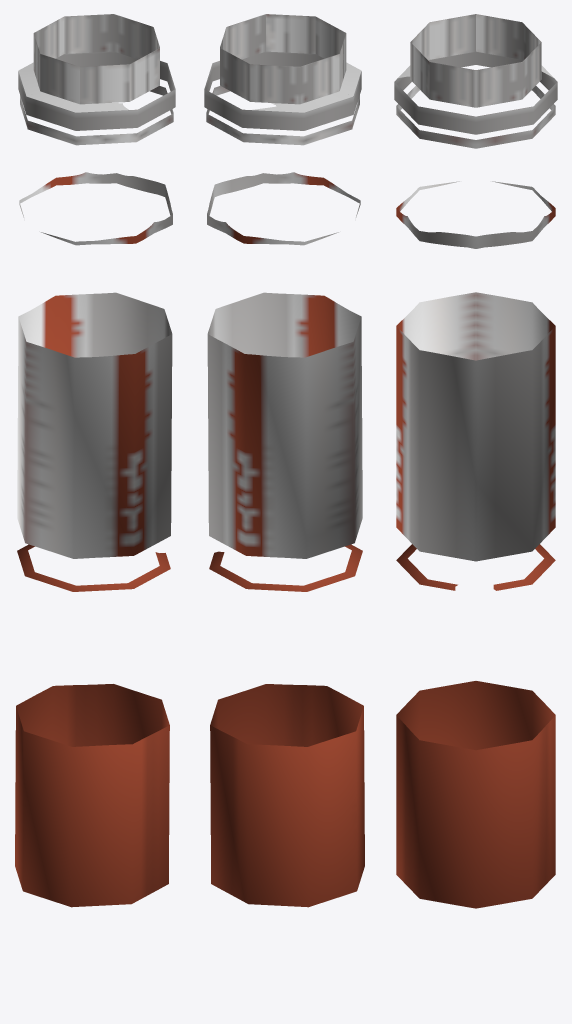
The model's file is MORIHealRed.fbx.
The picture shows the model from 3 angles, left to right: view 1: azimuth 30°, elevation 25°; view 2: azimuth 150°, elevation 25°; view 3: azimuth 270°, elevation 25°; orthographic projection.
Visible parts, largest first — view 1: M.O.R.I..002; view 2: M.O.R.I..002; view 3: M.O.R.I..002.
Boxes of the visible parts, bbox=[...] form: M.O.R.I..002: bbox=[15, 14, 175, 907]; M.O.R.I..002: bbox=[204, 14, 364, 907]; M.O.R.I..002: bbox=[394, 14, 557, 908].
Size of the model in its own units: 0.2643 by 1.67 by 0.2568.
